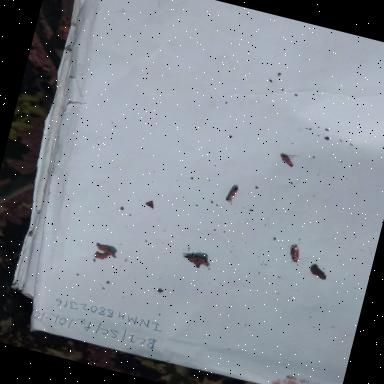pbw: (276, 231, 312, 272), (217, 176, 250, 210), (276, 150, 302, 170)
